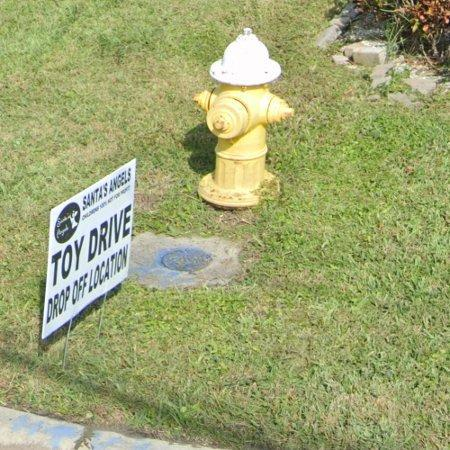a fire hydrant: (194, 28, 295, 207)
